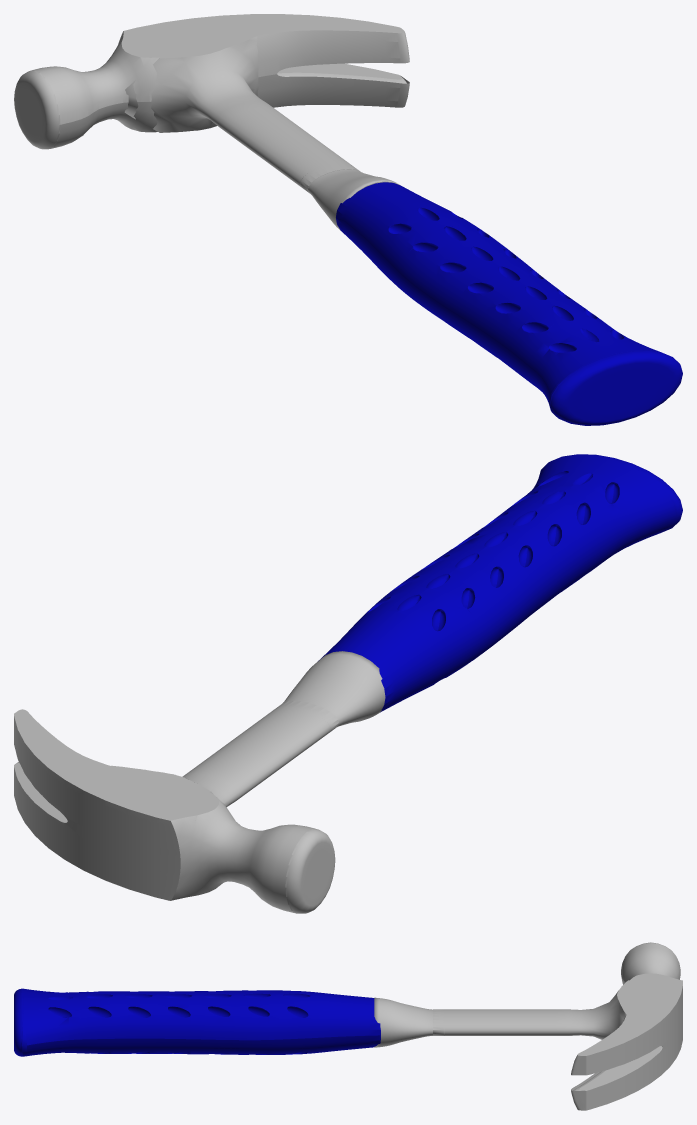
Rendered from hammer1.dae.
The picture shows the model from 3 angles, top to bottom: view 1: azimuth 30°, elevation 25°; view 2: azimuth 150°, elevation 25°; view 3: azimuth 270°, elevation 25°; orthographic projection. The views are drawn at different scales.
Parts seen in each view (by area): view 1: Cylinder11_003, ChamferCyl81_003; view 2: Cylinder11_003, ChamferCyl81_003; view 3: ChamferCyl81_003, Cylinder11_003.
Part boxes in pixels (x1,y1,x2,y2): Cylinder11_003: (14,14,409,230); ChamferCyl81_003: (336,182,682,425); Cylinder11_003: (14,651,385,913); ChamferCyl81_003: (318,454,682,712); ChamferCyl81_003: (14,988,380,1056); Cylinder11_003: (374,942,682,1110).
Size of the model in its own units: 0.1532 by 0.3716 by 0.0337.
